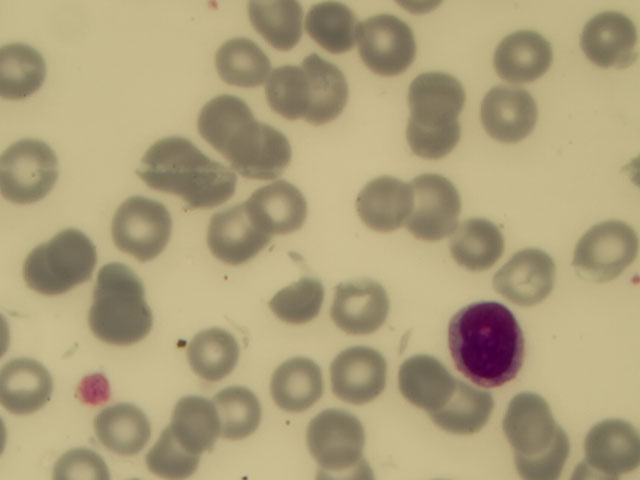Platelets: (73, 374, 115, 405)
RBC: (28, 230, 95, 296), (107, 197, 174, 263), (85, 269, 152, 335), (136, 134, 203, 200), (171, 151, 238, 217), (198, 91, 265, 157), (223, 119, 290, 185), (210, 33, 277, 99), (259, 64, 326, 130), (296, 56, 363, 122), (356, 15, 423, 81), (307, 3, 374, 69), (401, 54, 468, 120), (399, 101, 466, 167), (405, 173, 472, 239), (350, 168, 417, 234), (252, 176, 319, 242), (204, 201, 271, 267), (266, 269, 333, 335), (326, 282, 393, 348), (179, 319, 246, 385), (214, 378, 281, 444), (172, 393, 239, 459), (94, 401, 161, 467), (321, 342, 388, 408), (262, 354, 329, 420), (387, 351, 454, 417), (421, 368, 488, 434), (495, 387, 562, 453), (502, 251, 569, 317), (453, 213, 520, 279), (474, 85, 541, 151), (488, 25, 555, 91), (573, 7, 640, 73), (573, 221, 640, 287), (573, 414, 640, 480), (1, 42, 67, 109), (1, 141, 67, 207), (1, 352, 67, 418), (248, 1, 310, 51)
WBC: (445, 300, 527, 392)
